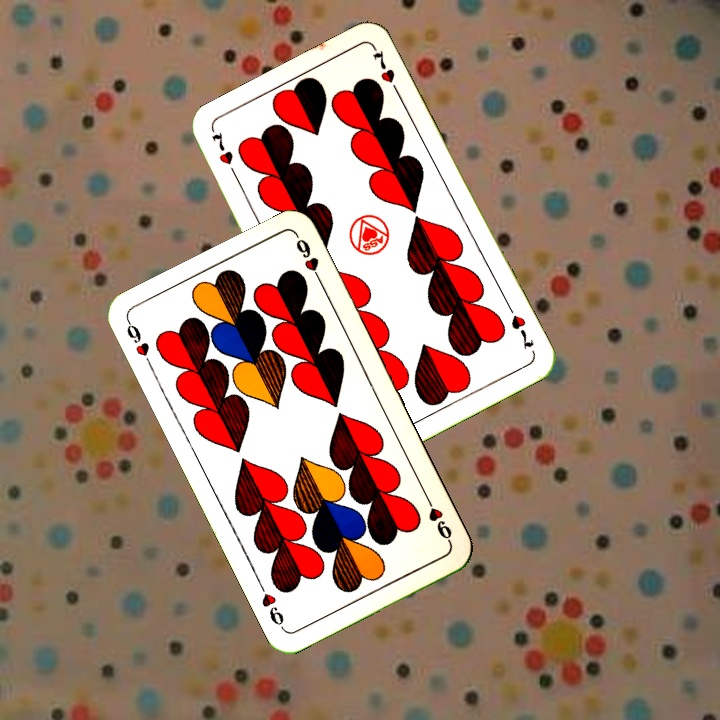H7: (207, 129, 241, 182), (503, 300, 537, 352)
H9: (421, 492, 455, 547), (122, 317, 156, 372)
